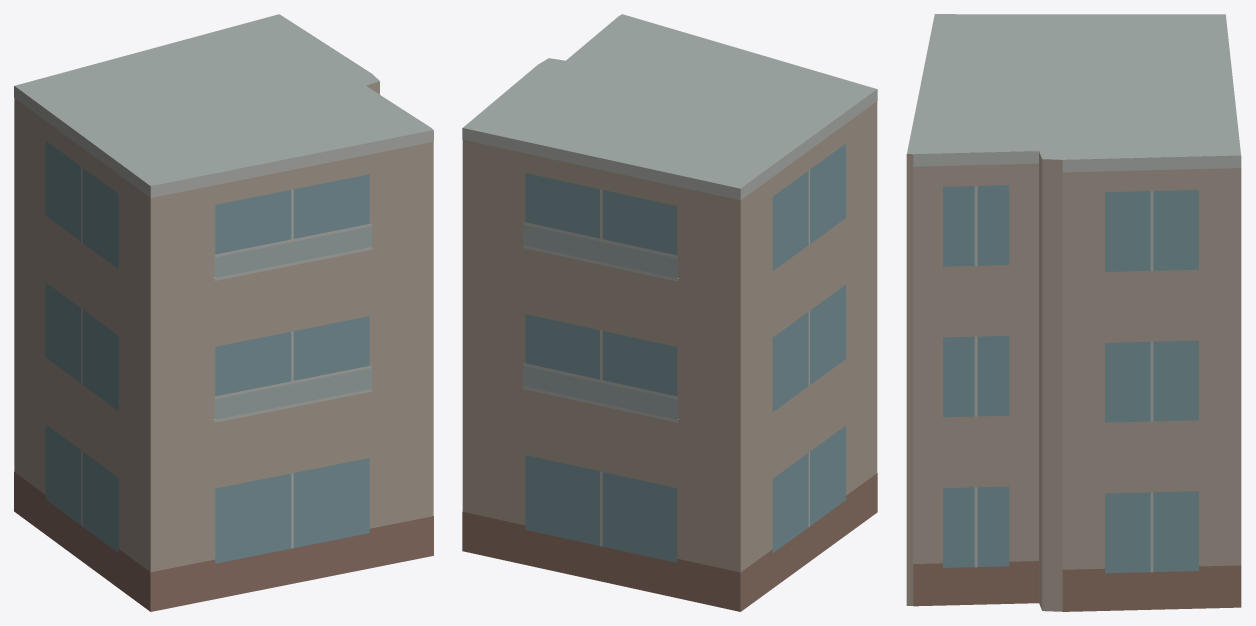
The model's file is survey-upis-32470037.glb.
3 renders of one model, left to right at view 1: azimuth 30°, elevation 25°; view 2: azimuth 150°, elevation 25°; view 3: azimuth 270°, elevation 25°, orthographic. The views are drawn at different scales.
Parts seen in each view (by area): view 1: survey-upis-32470037.tmp; view 2: survey-upis-32470037.tmp; view 3: survey-upis-32470037.tmp.
Part boxes in pixels (x1,y1,x2,y2): survey-upis-32470037.tmp: [14, 14, 433, 611]; survey-upis-32470037.tmp: [462, 14, 877, 611]; survey-upis-32470037.tmp: [906, 14, 1241, 611].
Bounding box in the file's own units: 6.1 × 8.8 × 5.91.
